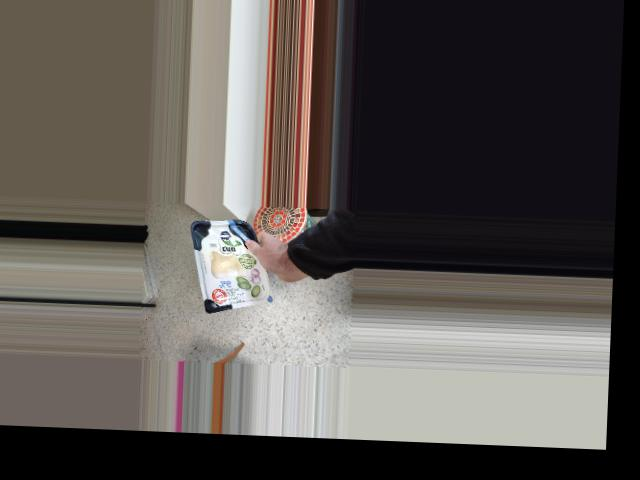cheese: (194, 212, 267, 316)
